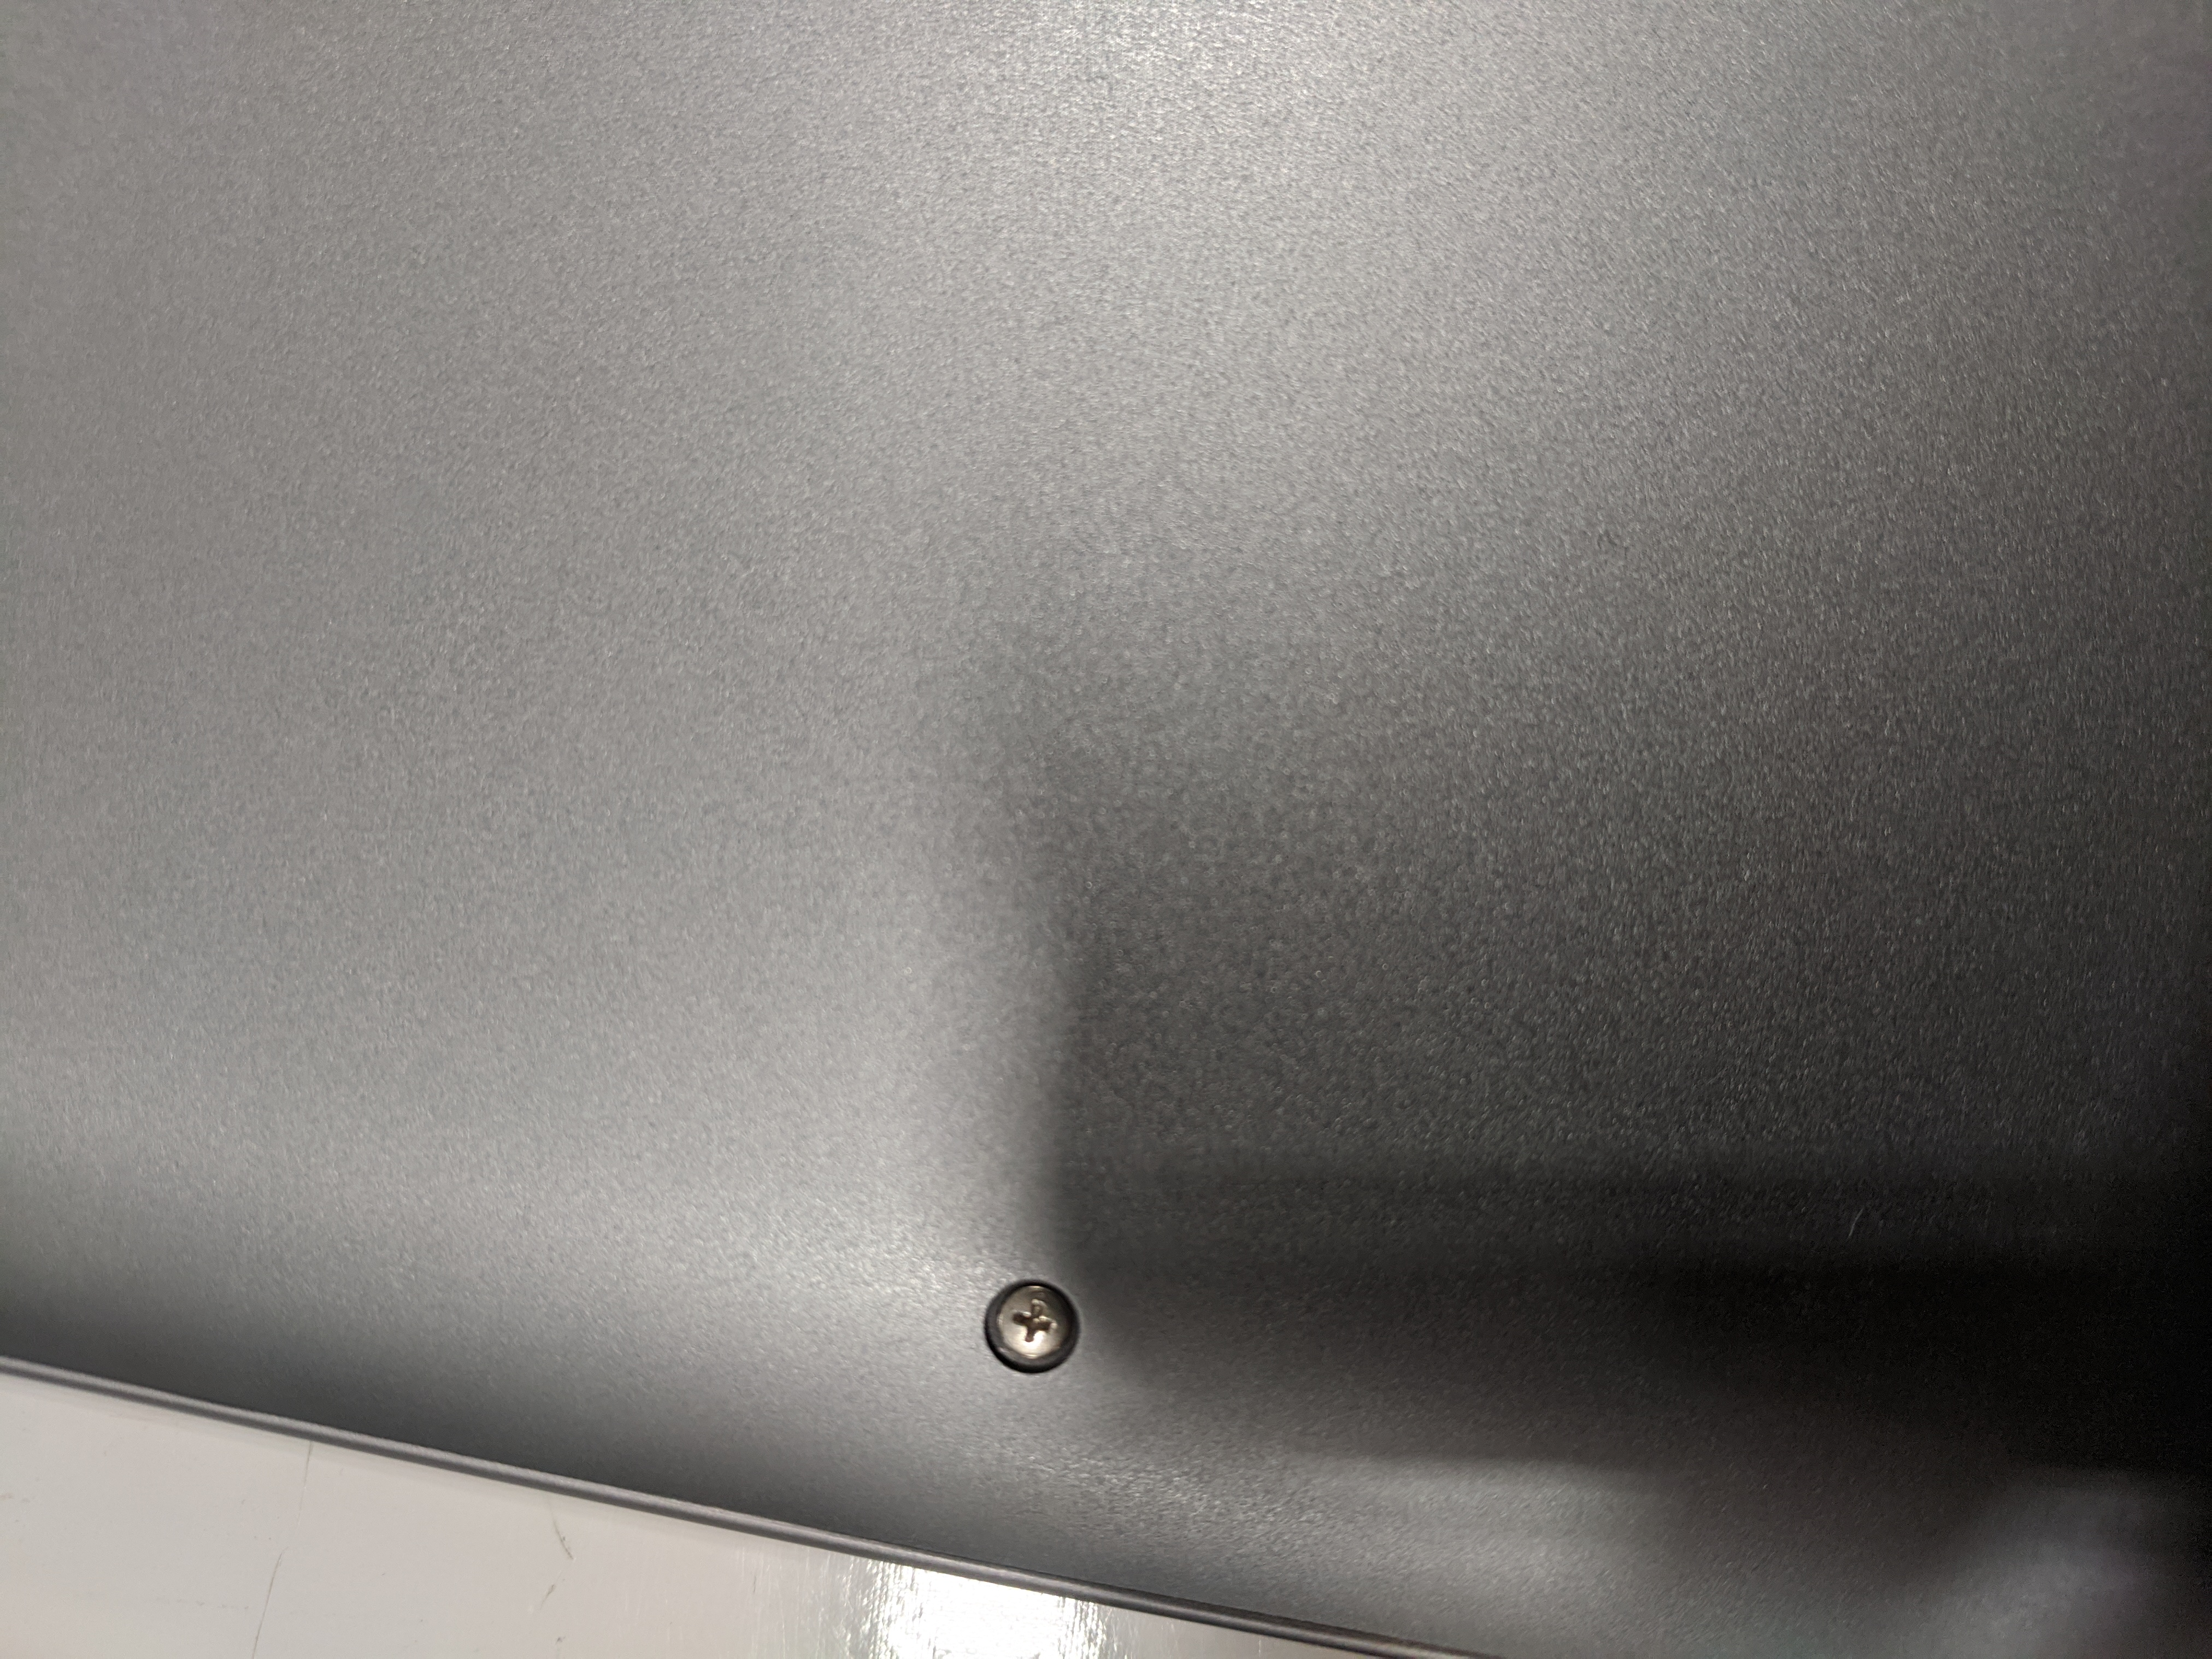cross_recessed_screw: (979, 1263, 1083, 1375)
